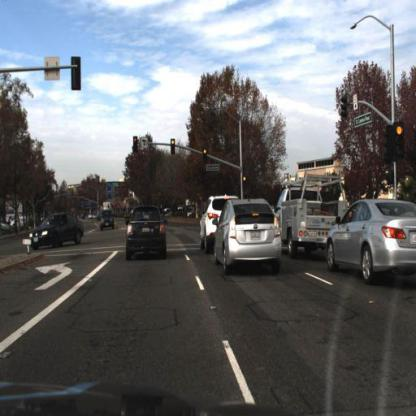car: (327, 196, 416, 288), (277, 172, 347, 251), (215, 197, 283, 277), (275, 186, 339, 269), (124, 204, 166, 264), (28, 207, 86, 250), (29, 210, 87, 252), (123, 202, 167, 253), (199, 193, 228, 253), (199, 197, 220, 249), (100, 206, 117, 232), (100, 211, 116, 232)
trafficLight: (243, 171, 250, 188)
trafficLight-Red: (241, 172, 250, 196), (171, 137, 178, 158), (202, 146, 209, 167), (170, 137, 177, 156), (204, 146, 210, 166)
trafficLight-RedLeft: (133, 134, 141, 155), (133, 134, 140, 155)
